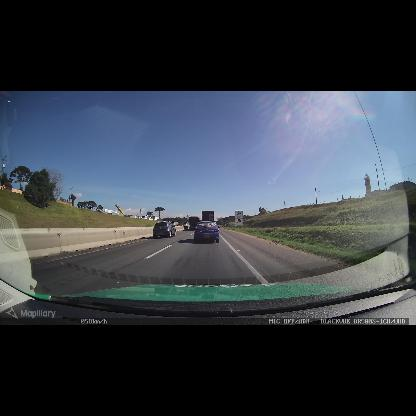R-19: (235, 211, 243, 226)
